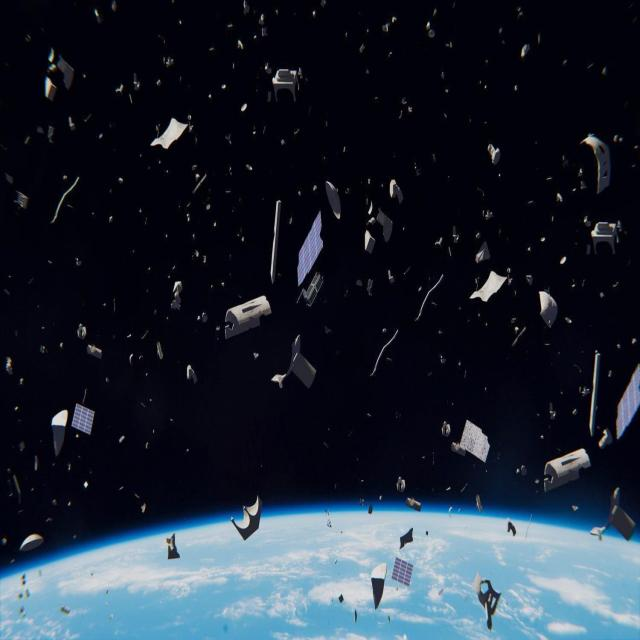large_debris: (180, 173, 218, 264), (592, 485, 636, 546), (271, 333, 317, 391), (36, 49, 76, 107), (544, 448, 593, 492), (121, 329, 167, 375), (262, 58, 304, 104), (298, 209, 323, 286), (615, 363, 640, 438), (225, 297, 270, 338), (544, 165, 586, 206), (451, 420, 490, 462), (472, 576, 502, 629), (2, 166, 32, 218), (583, 134, 610, 189), (414, 273, 444, 322), (53, 174, 82, 224), (370, 328, 399, 377), (5, 356, 27, 412), (230, 499, 260, 540), (470, 272, 508, 303), (152, 118, 188, 149), (114, 76, 144, 110), (269, 199, 281, 283), (589, 354, 601, 436), (75, 323, 102, 357), (297, 272, 324, 306), (423, 4, 445, 45), (591, 222, 618, 255), (224, 15, 246, 52), (538, 286, 558, 326), (371, 563, 387, 611), (72, 403, 95, 434), (168, 279, 186, 318), (391, 557, 413, 588), (379, 10, 400, 42), (158, 52, 177, 86), (18, 574, 32, 620), (52, 408, 67, 450), (325, 180, 341, 219), (252, 10, 271, 42), (377, 207, 393, 244), (8, 466, 24, 502), (486, 140, 502, 170), (398, 93, 414, 123), (183, 360, 197, 389), (510, 458, 528, 480), (389, 180, 405, 204), (166, 533, 180, 560), (503, 516, 520, 538), (471, 490, 488, 512), (475, 241, 491, 264), (445, 486, 456, 518), (511, 326, 526, 347), (518, 39, 530, 65), (115, 425, 128, 449), (21, 535, 43, 549), (598, 429, 613, 449), (400, 527, 413, 548), (44, 125, 56, 146), (58, 601, 72, 619), (365, 230, 375, 254), (141, 433, 151, 454), (407, 497, 422, 511), (196, 309, 209, 325), (32, 454, 41, 477), (441, 73, 450, 95), (557, 251, 568, 268), (612, 129, 623, 145), (115, 170, 125, 187), (187, 113, 195, 134), (92, 3, 100, 23), (23, 132, 31, 150), (442, 421, 451, 437), (397, 476, 406, 492), (68, 117, 78, 131), (228, 57, 238, 71), (106, 210, 114, 226), (239, 98, 248, 112), (600, 60, 606, 81), (246, 159, 255, 173), (38, 342, 48, 354), (96, 132, 106, 143), (482, 210, 493, 220), (579, 386, 590, 396), (453, 226, 459, 243), (367, 279, 373, 295), (102, 372, 110, 384), (387, 269, 394, 282), (414, 162, 419, 180), (110, 3, 118, 14), (220, 82, 228, 93), (632, 142, 640, 153), (550, 402, 555, 419), (225, 134, 232, 146), (508, 268, 513, 284), (632, 334, 638, 347), (584, 216, 591, 227), (280, 138, 287, 149), (368, 200, 373, 215), (517, 6, 523, 18), (75, 255, 81, 267), (629, 161, 635, 173), (367, 217, 376, 225), (526, 274, 533, 284), (83, 478, 89, 489), (572, 503, 578, 514), (358, 42, 364, 53), (338, 593, 344, 604), (608, 367, 613, 380), (354, 608, 358, 624), (435, 237, 442, 246), (461, 483, 468, 492), (440, 354, 446, 364), (207, 90, 212, 101), (616, 340, 621, 351), (368, 503, 373, 514), (310, 8, 316, 17), (586, 243, 590, 256), (602, 66, 607, 76), (48, 256, 53, 266), (228, 167, 233, 177), (587, 62, 594, 69), (324, 327, 331, 334), (475, 231, 481, 239), (438, 588, 444, 596), (566, 316, 572, 324), (140, 401, 146, 409), (59, 340, 64, 349), (294, 128, 300, 135), (113, 298, 116, 312), (446, 42, 452, 48), (356, 280, 362, 286), (192, 164, 198, 170), (252, 127, 256, 136), (514, 326, 519, 333), (321, 0, 326, 7), (185, 447, 190, 454), (600, 291, 604, 299), (388, 49, 392, 57), (366, 68, 370, 76), (313, 184, 317, 192), (563, 58, 567, 65), (499, 27, 503, 34), (528, 199, 533, 204), (573, 409, 577, 415), (458, 361, 462, 367), (582, 279, 585, 287), (538, 32, 540, 44), (514, 85, 518, 91), (512, 318, 516, 323), (541, 237, 545, 242), (485, 58, 489, 63), (444, 113, 448, 118), (169, 417, 173, 422), (432, 302, 438, 305), (551, 216, 554, 222), (343, 146, 346, 152), (149, 397, 152, 403), (103, 302, 106, 308), (528, 247, 531, 252), (367, 27, 369, 34), (572, 284, 575, 288), (484, 120, 487, 124), (375, 96, 378, 100), (326, 120, 328, 126), (383, 328, 386, 332), (153, 429, 155, 435), (485, 84, 487, 89), (469, 119, 472, 122), (503, 40, 505, 44), (595, 350, 597, 353)
